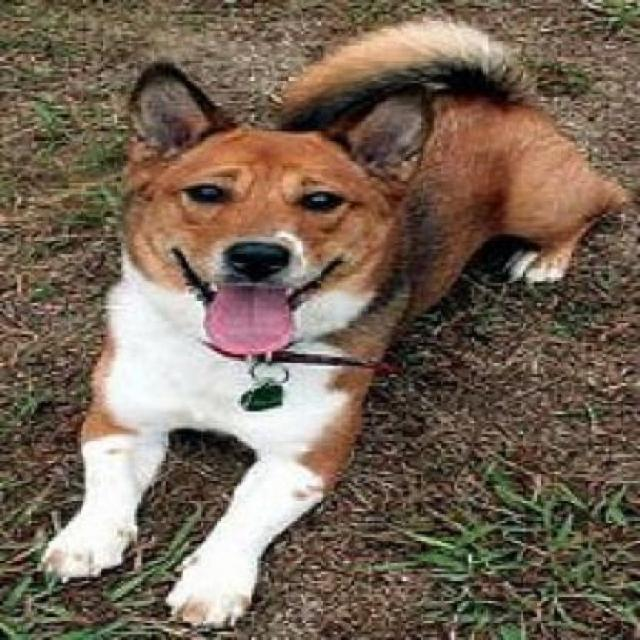Dog: (41, 8, 624, 628)
